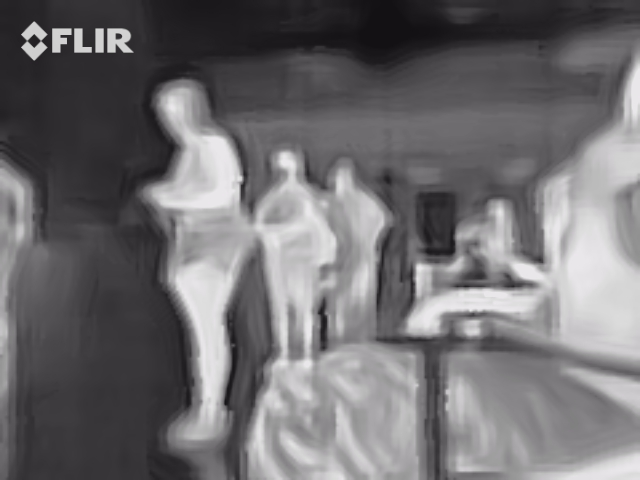head: (152, 78, 209, 145)
